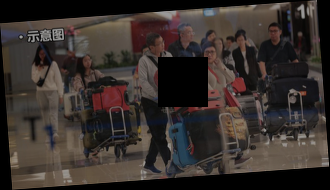without_mask: (203, 48, 218, 63), (184, 28, 195, 42), (269, 27, 280, 40), (156, 38, 165, 53), (83, 56, 93, 67), (214, 40, 224, 51), (236, 37, 246, 46), (207, 33, 216, 42), (39, 51, 47, 60), (226, 39, 234, 48)
